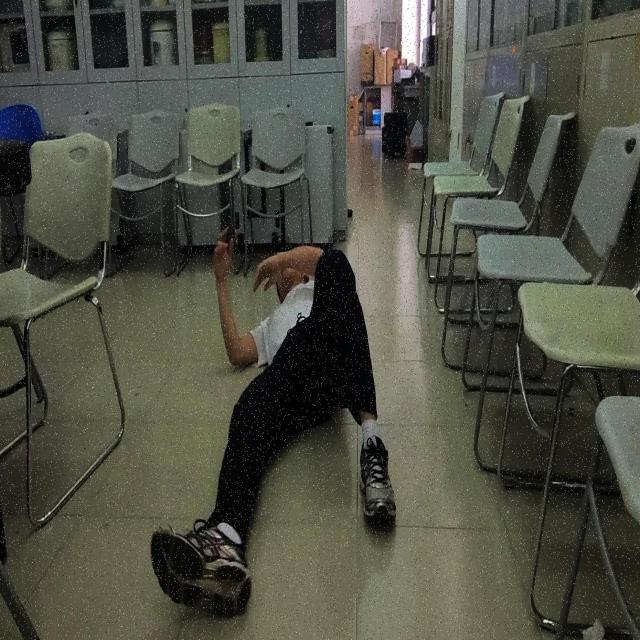fall: (152, 224, 398, 620)
